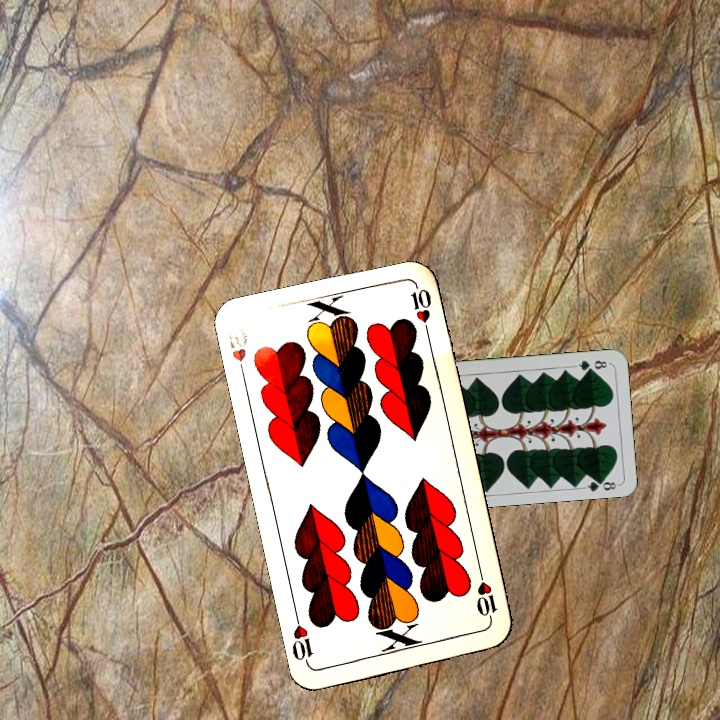G8: (571, 356, 612, 374)
H10: (472, 567, 500, 625), (224, 327, 251, 382)
